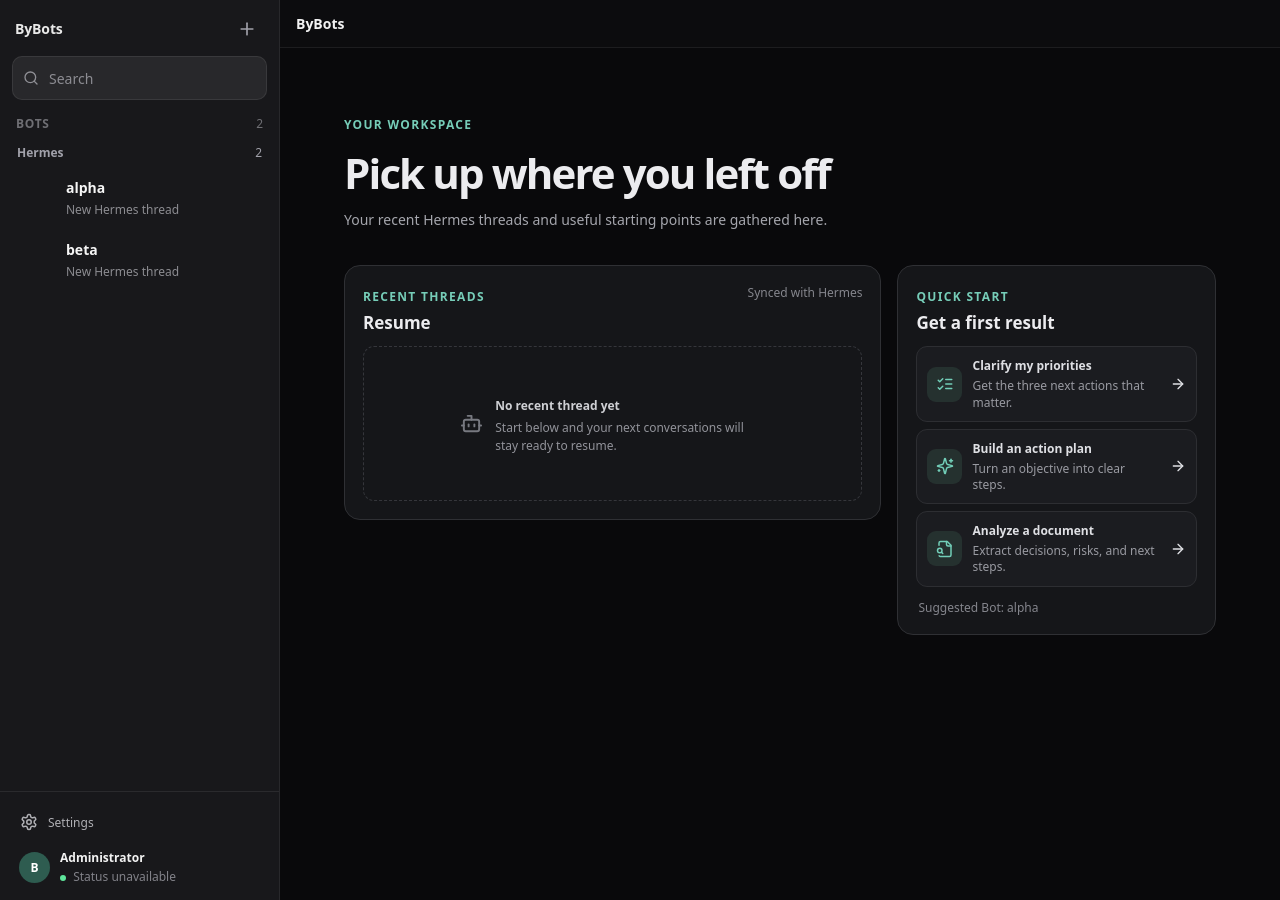
Test case: conversation request ownership › renders tokens before completion and ignores a late HTTP acknowledgement
Click the button "alpha New Hermes thread". click: (140, 198)
box: x1=8 y1=167 x2=271 y2=229
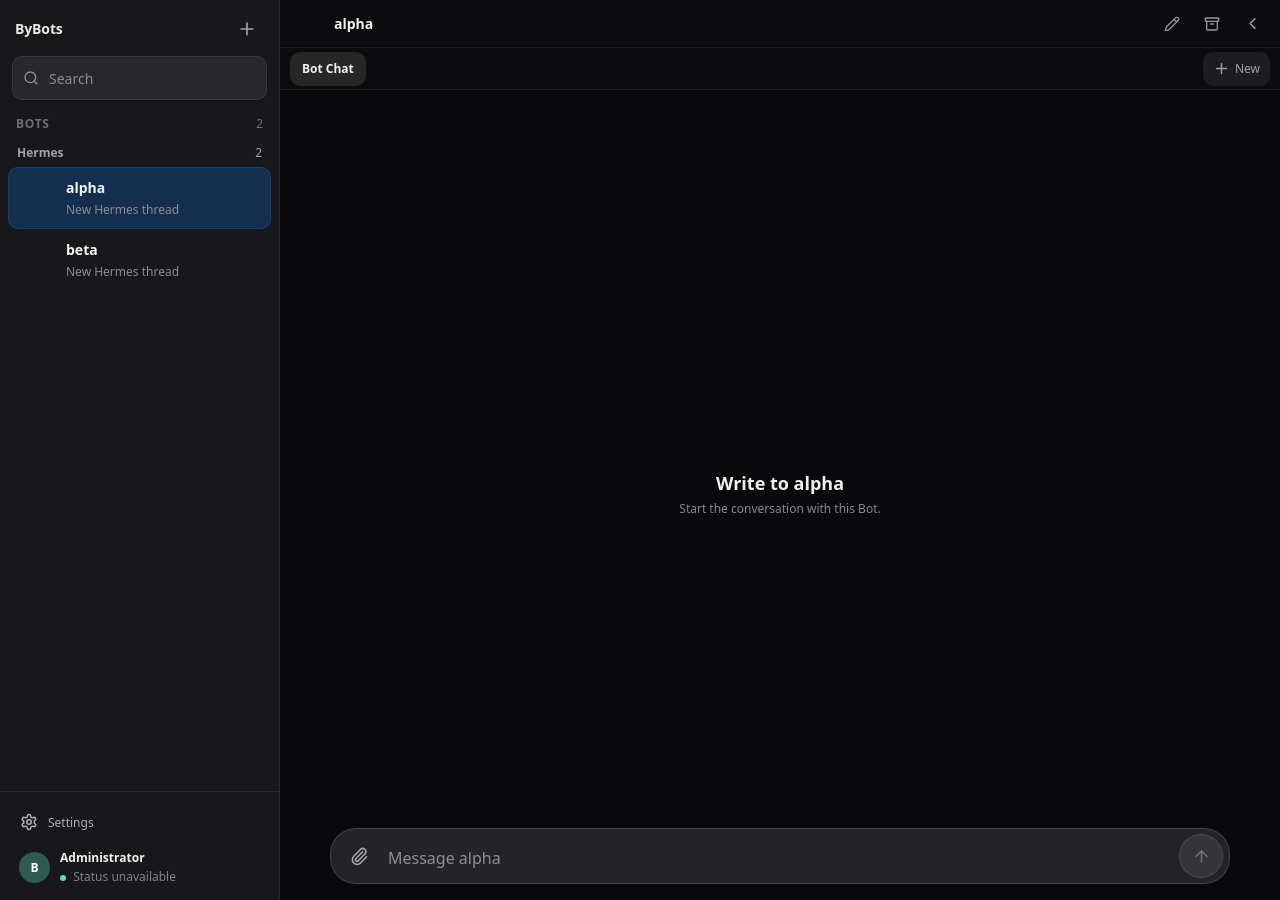
Type "Question" into the text box labelled "Message". click: (780, 857)
box: x1=384 y1=836 x2=1176 y2=878
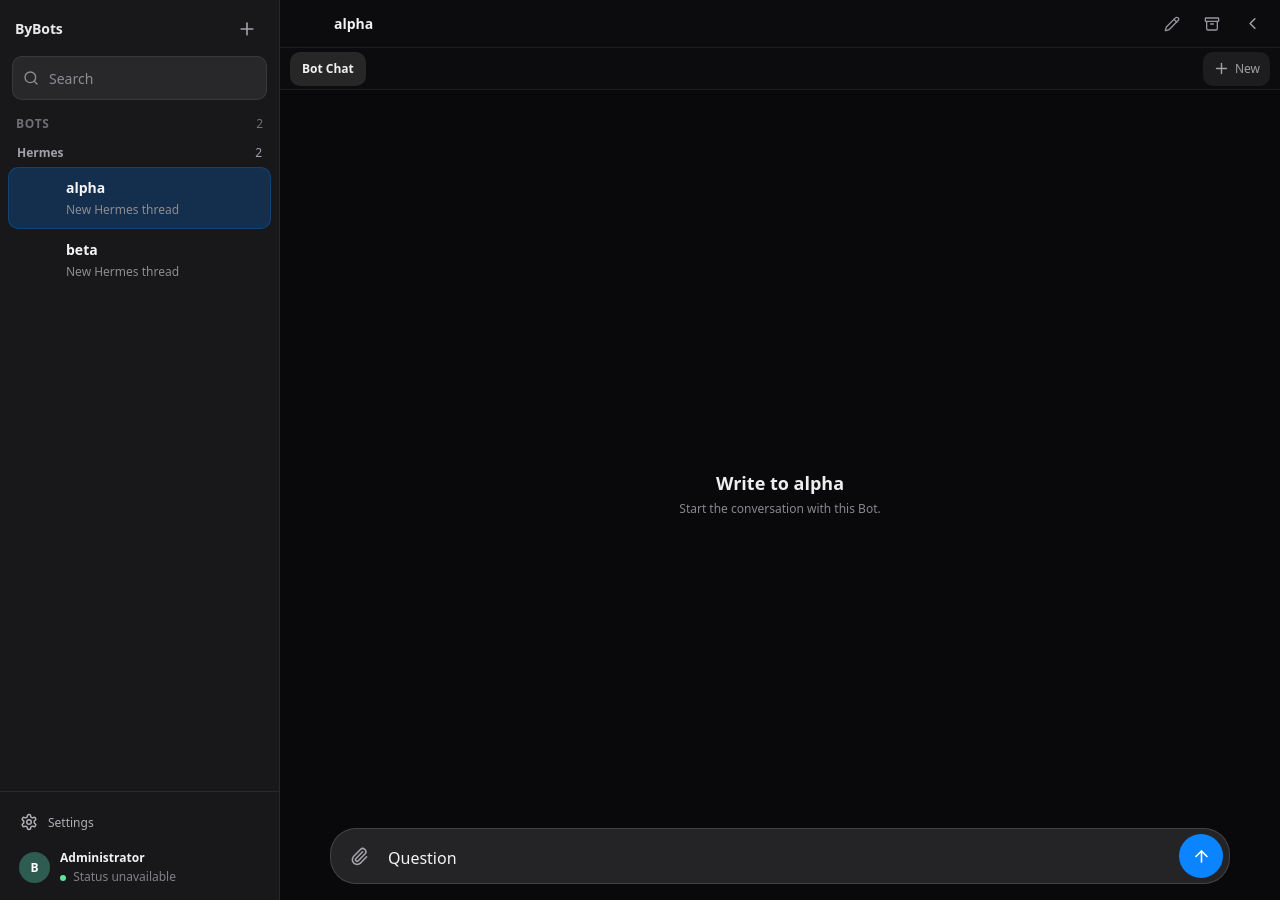
Click the button named "Send". click: (1201, 856)
box: x1=1179 y1=834 x2=1223 y2=878
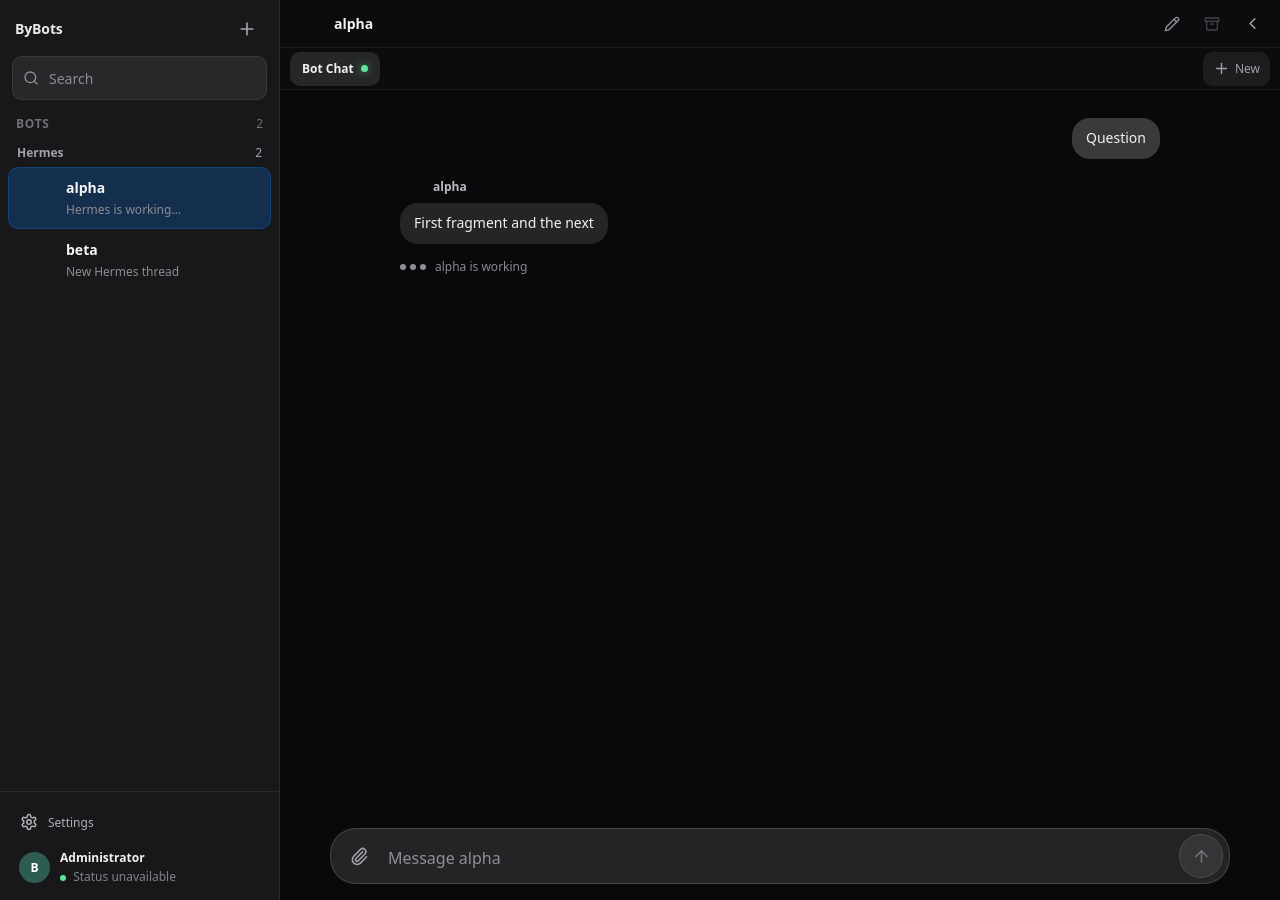
Expected: the text "First fragment" is shown, x1=414 y1=213 x2=594 y2=232
Expected: the text "First fragment and the next" is shown, x1=414 y1=213 x2=594 y2=233
